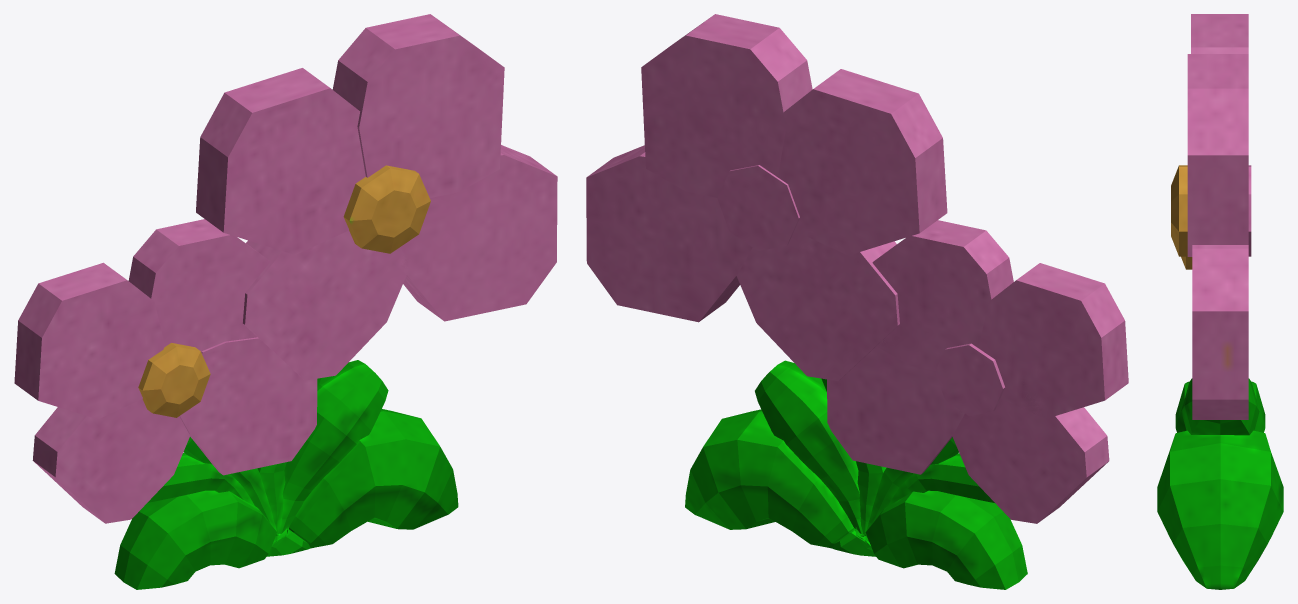
Rendered from flor_rosa.glb.
3 views of the same model, side by side, from view 1: azimuth 30°, elevation 25°; view 2: azimuth 150°, elevation 25°; view 3: azimuth 270°, elevation 25° (orthographic). The views are drawn at different scales.
Visible parts, largest first — view 1: NSMBFlowerPink; view 2: NSMBFlowerPink; view 3: NSMBFlowerPink.
Boxes of the visible parts, x1,y1,x2,y2 form: NSMBFlowerPink: (14,14,557,589); NSMBFlowerPink: (586,14,1128,589); NSMBFlowerPink: (1157,14,1283,589).
Size of the model in its own units: 2.87 by 2.56 by 0.5877.
Materials: 1 (1 with a texture image).
